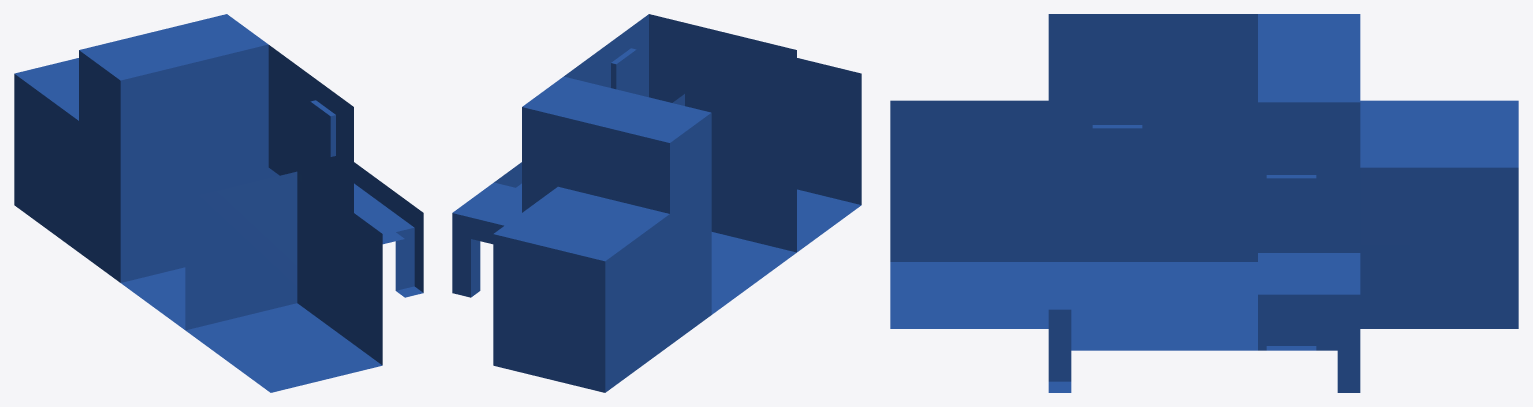
The model's file is hospital.glb.
3 views of the same model, side by side, from view 1: azimuth 30°, elevation 25°; view 2: azimuth 150°, elevation 25°; view 3: azimuth 270°, elevation 25° (orthographic). The views are drawn at different scales.
Visible parts, largest first — view 1: Cube; view 2: Cube; view 3: Cube.
Boxes of the visible parts, bbox=[...] form: Cube: bbox=[14, 14, 423, 392]; Cube: bbox=[452, 14, 861, 392]; Cube: bbox=[890, 14, 1518, 392].
Bounding box in the file's own units: 2.94 × 2.62 × 6.01.
